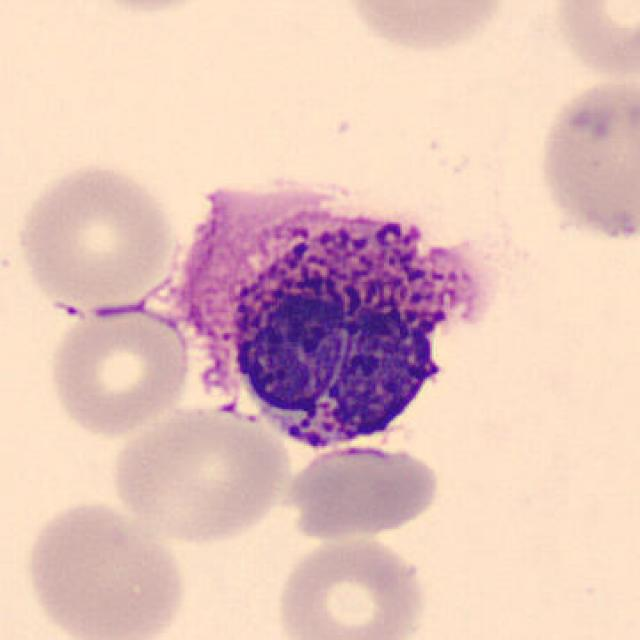Basophil: (149, 178, 496, 469)
RBC: (107, 400, 293, 547), (12, 159, 182, 314), (18, 495, 190, 640), (44, 303, 192, 439), (531, 72, 640, 245), (272, 529, 430, 640), (281, 441, 444, 541), (336, 0, 512, 55), (548, 0, 638, 81), (70, 0, 230, 14)
